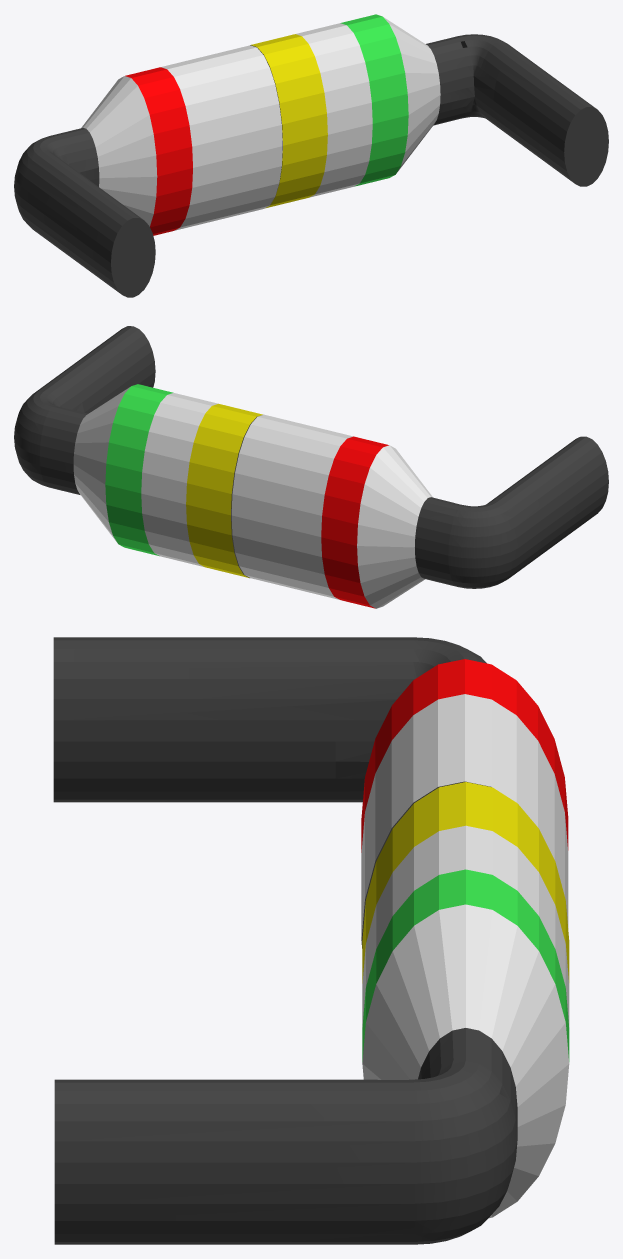
Rendered from Resistor-Base.fbx.
3 views of the same model, one above another, from view 1: azimuth 30°, elevation 25°; view 2: azimuth 150°, elevation 25°; view 3: azimuth 270°, elevation 25° (orthographic). The views are drawn at different scales.
Visible parts, largest first — view 1: Resistor1; view 2: Resistor1; view 3: Resistor1.
Part boxes in pixels (bbox=[...]): Resistor1: bbox=[14, 14, 608, 297]; Resistor1: bbox=[14, 326, 608, 608]; Resistor1: bbox=[53, 637, 569, 1244].
Size of the model in its own units: 145 by 44.43 by 65.18.
